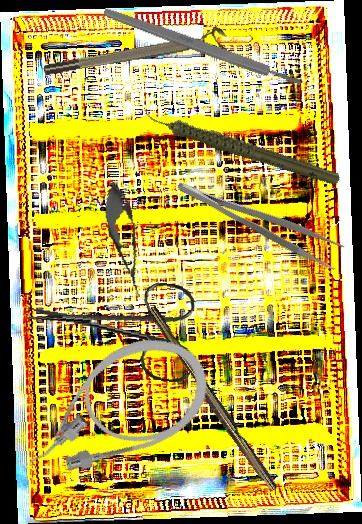Cannula: (2, 320, 226, 494)
Dressing Forceps: (173, 165, 348, 273)
Fixation Ring: (41, 25, 229, 79)
Handpiece: (139, 66, 343, 224)
Iris Scissors: (21, 267, 201, 384)
Micro Scissor: (97, 179, 153, 301)
Scalpel Handle: (142, 305, 281, 495), (102, 5, 303, 90)
